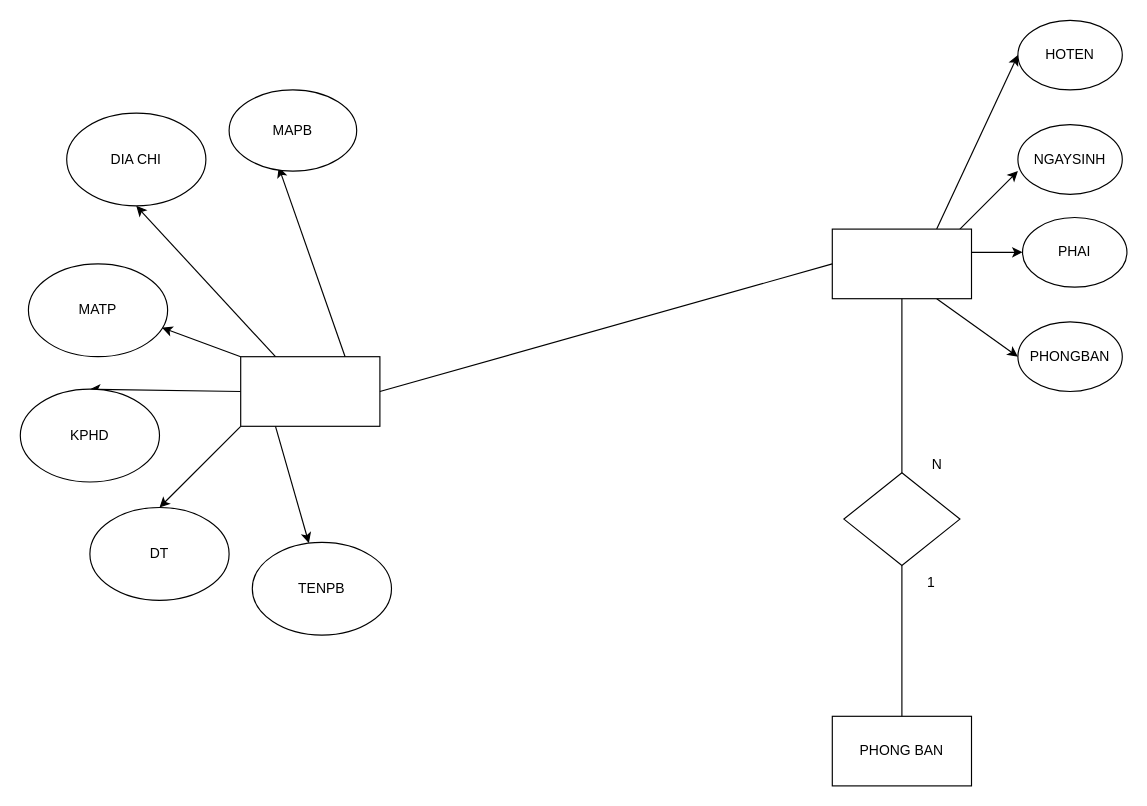
The diagram is 1147 pixels wide and 806 high, and some of its shapes have lost their labels. The shapes that lost their labels are listed below. From the top down, each one's centre as x and y in pixels, then its label:
At (901,263): "NHAN VIEN".
At (310,391): "CONG VIEC".
At (901,519): "GỒM".
